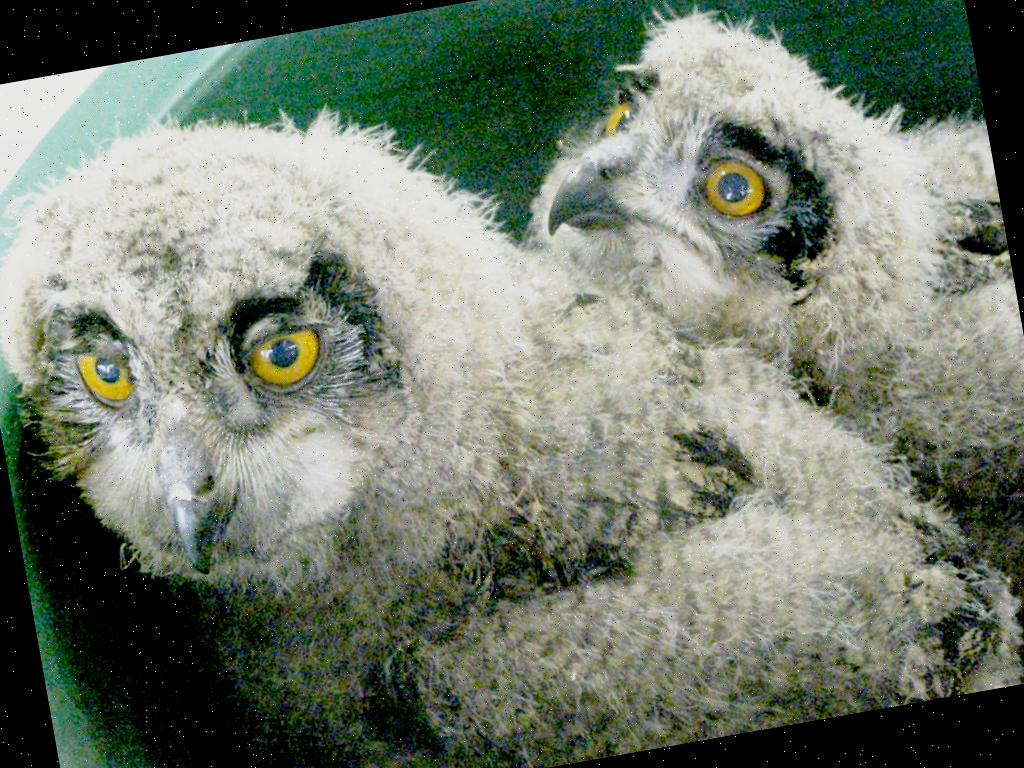Owl: (0, 0, 1024, 768), (492, 0, 1024, 753)
